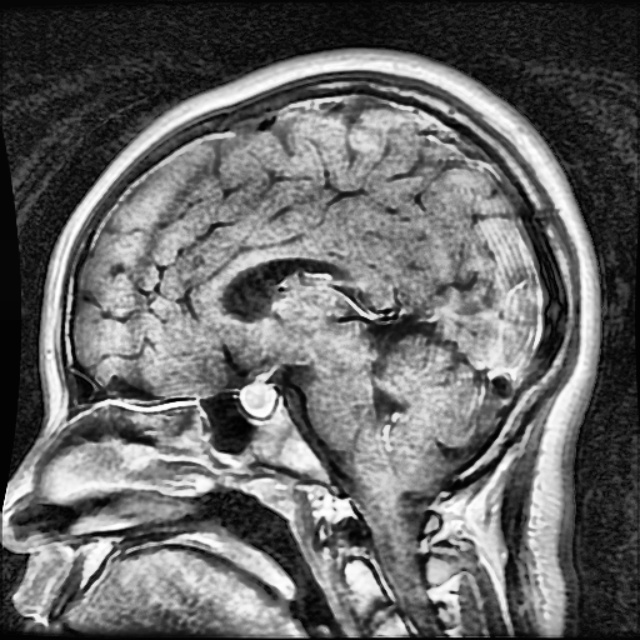Pituitary: (239, 382, 277, 418)
